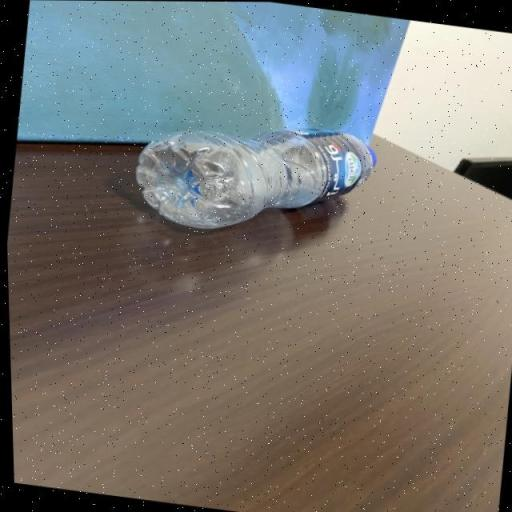plastic: (133, 129, 377, 233)
